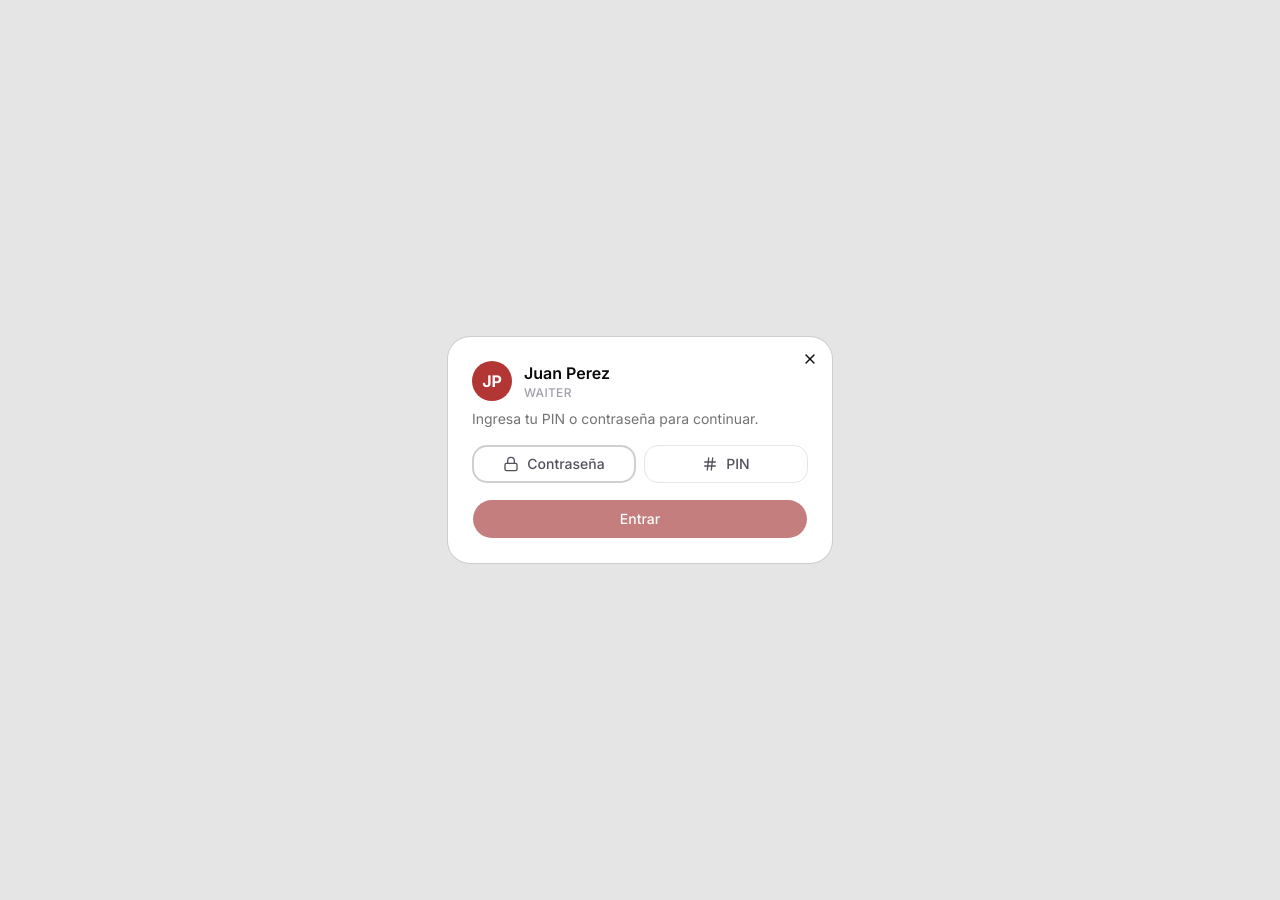
Test case: QuickLoginModal › swaps to password on 409 PIN_NOT_SET
Click the button "PIN" at [726, 464], box [644, 445, 808, 483]
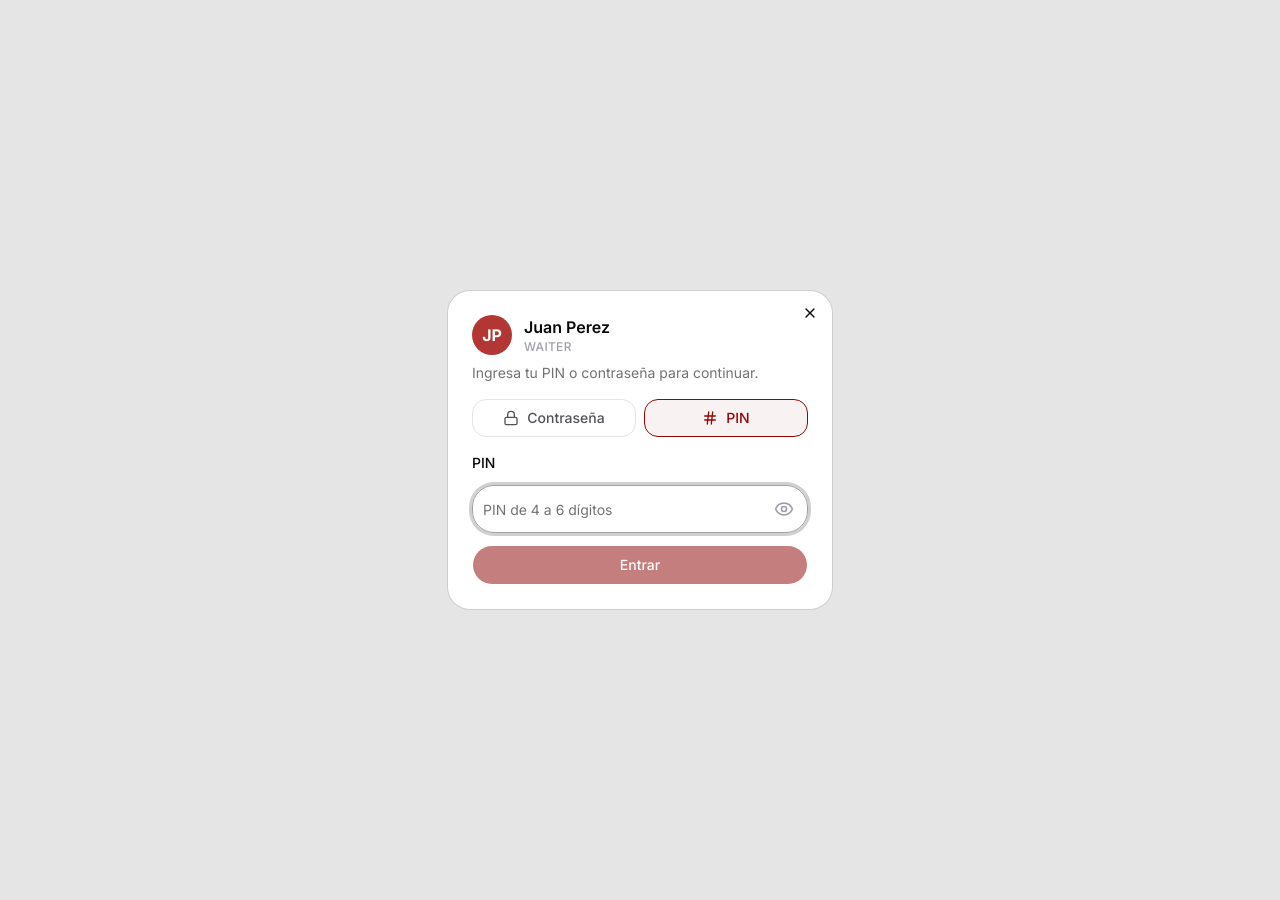
Type "1234" into the password field labelled "PIN" at [640, 509], box [472, 485, 808, 533]
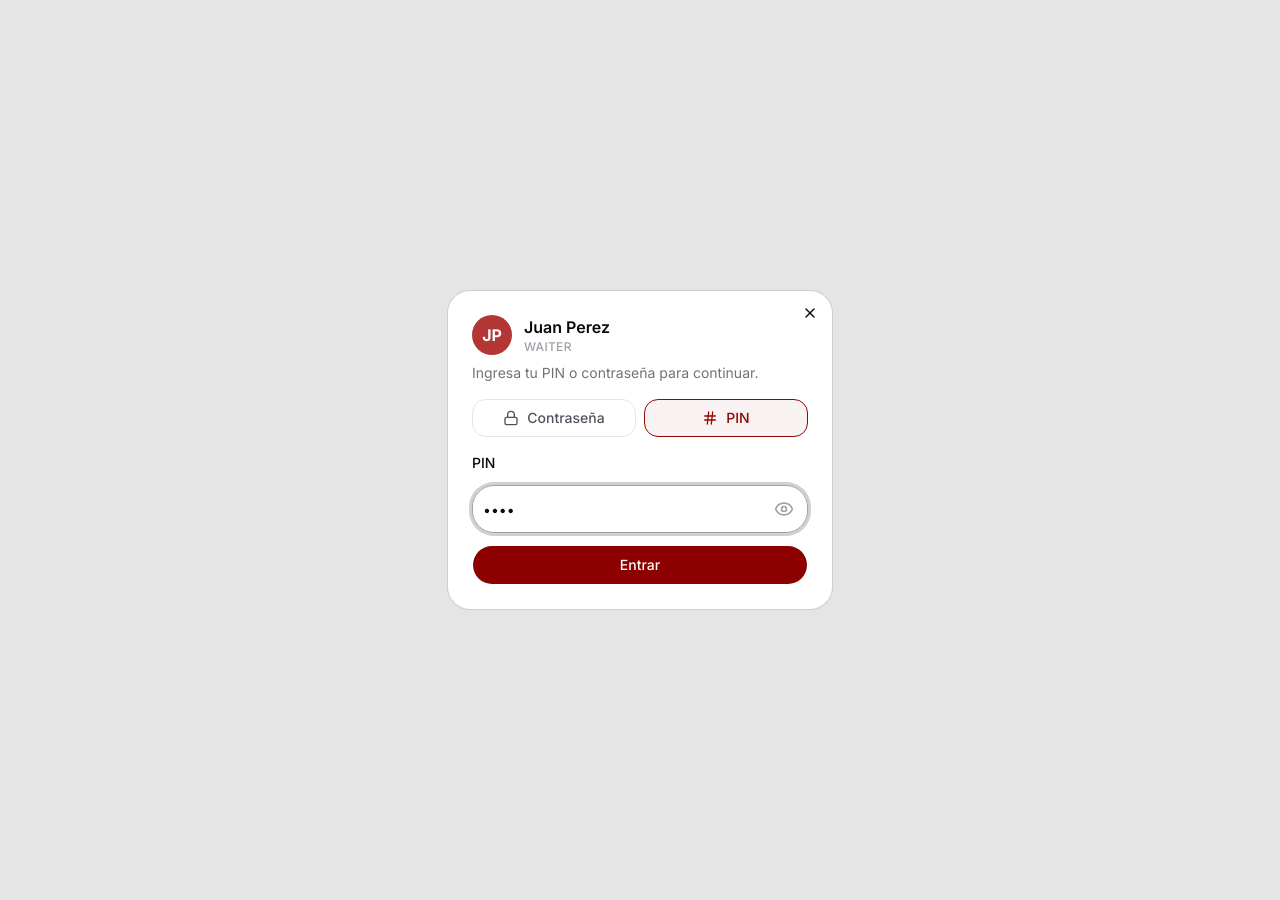
Click the button "Entrar" at [640, 565], box [472, 545, 808, 585]
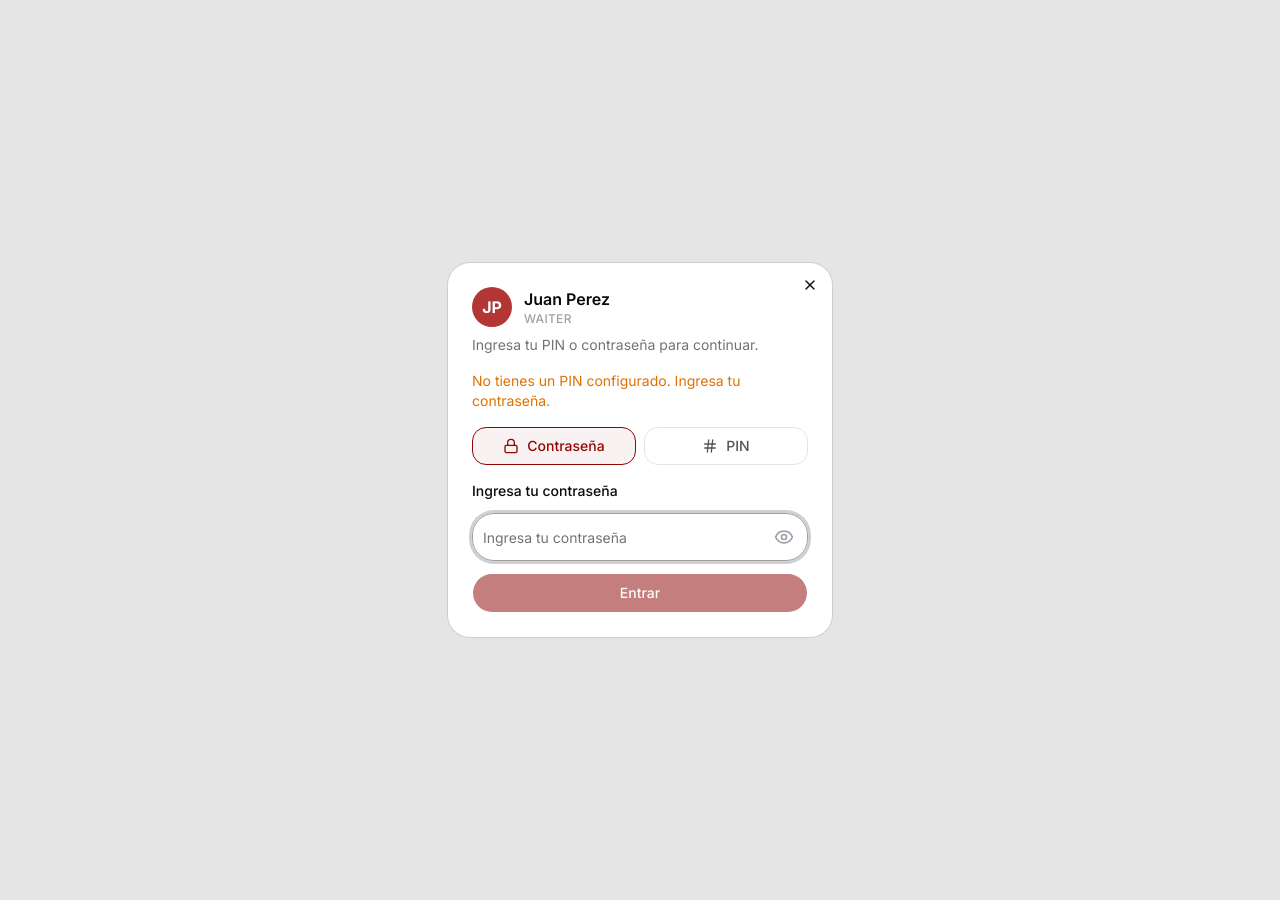
Expected: the text "No tienes un PIN configurado. Ingresa tu contraseña." is shown, [472, 372, 740, 409]
Expected: the password field labelled "Ingresa tu contraseña" is shown, [472, 513, 808, 561]
